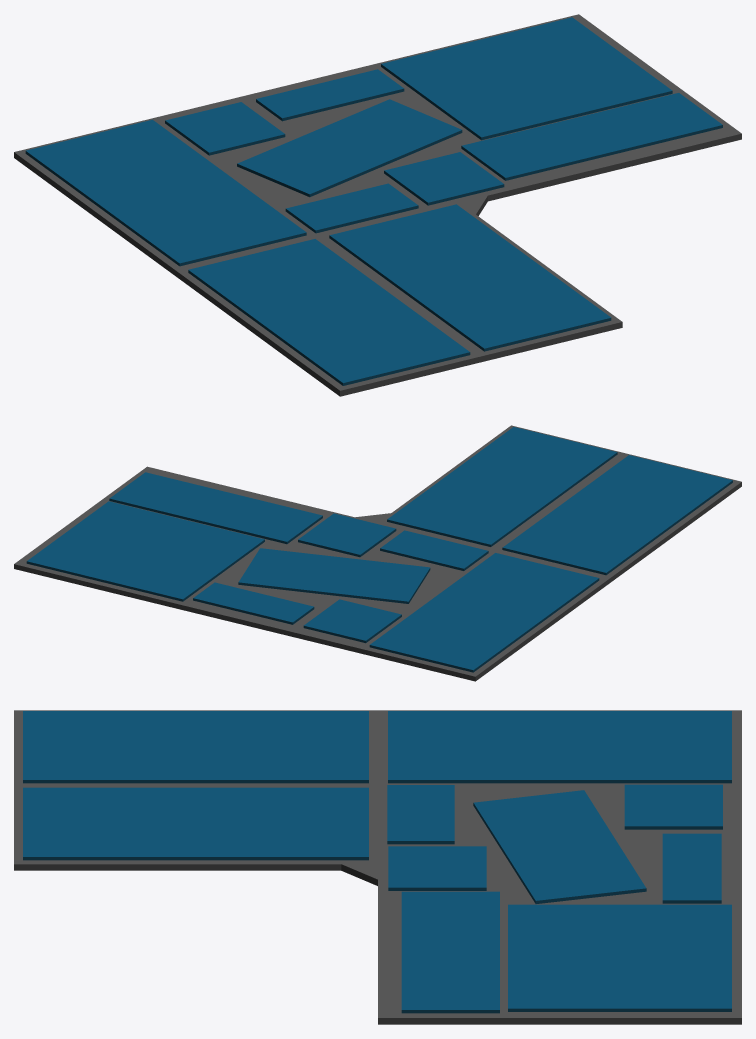
File: floor_l_type_01.fbx
3 views of the same model, one above another, from view 1: azimuth 30°, elevation 25°; view 2: azimuth 150°, elevation 25°; view 3: azimuth 270°, elevation 25° (orthographic). The views are drawn at different scales.
Visible parts, largest first — view 1: floor_l_type_01; view 2: floor_l_type_01; view 3: floor_l_type_01.
Boxes of the visible parts, x1,y1,x2,y2 form: floor_l_type_01: (14, 14, 741, 396); floor_l_type_01: (14, 425, 741, 681); floor_l_type_01: (14, 710, 741, 1024).
Bounding box in the file's own units: 400 × 6 × 400.
